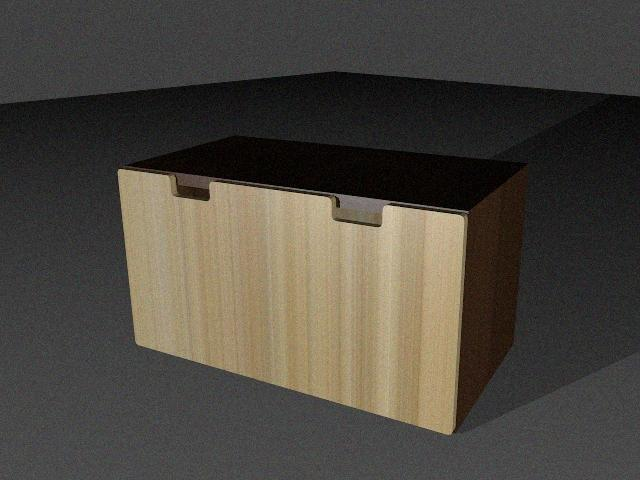cabinet_door: (126, 192, 460, 390)
handle: (335, 194, 383, 224), (171, 176, 211, 198)
